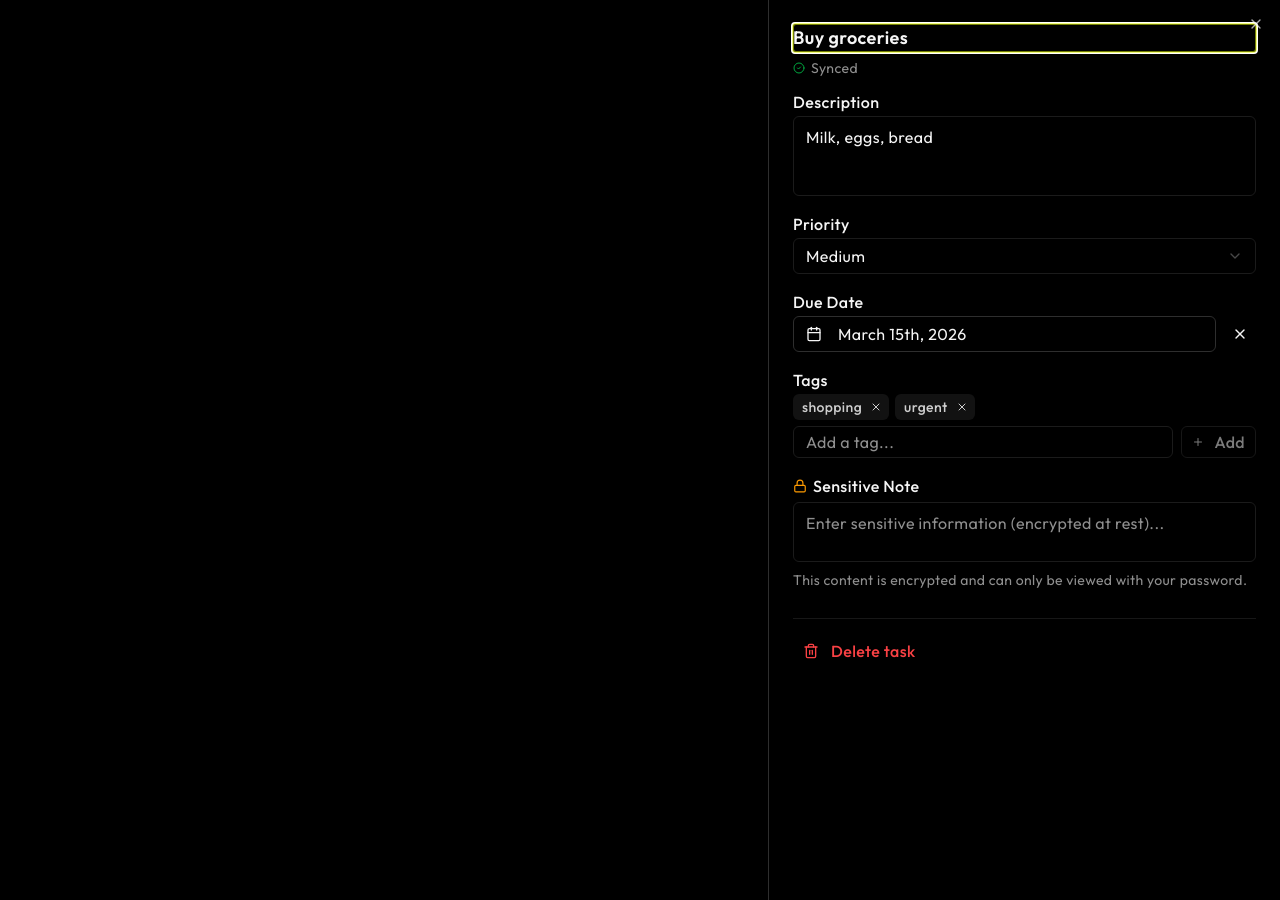
TaskDetailSheet › tag suggestions › should show suggestion list when tag input is focused and allTags is provided
Click the field named "New tag". click: (983,442)
box: [793,426,1174,458]
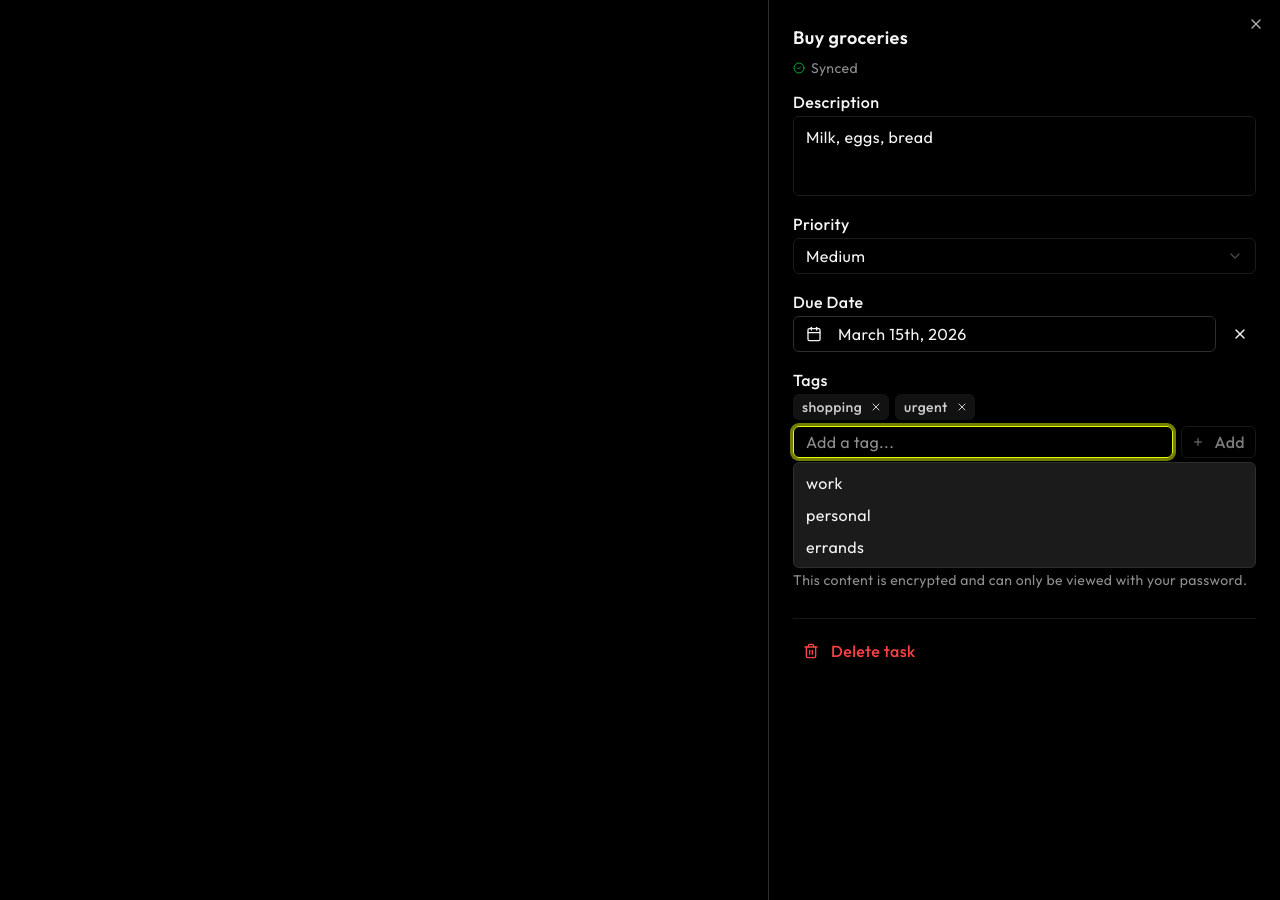
Expected: the option "work" is shown, [806,473,843,493]
Expected: the option "personal" is shown, [806,505,871,525]
Expected: the option "errands" is shown, [806,537,864,557]
